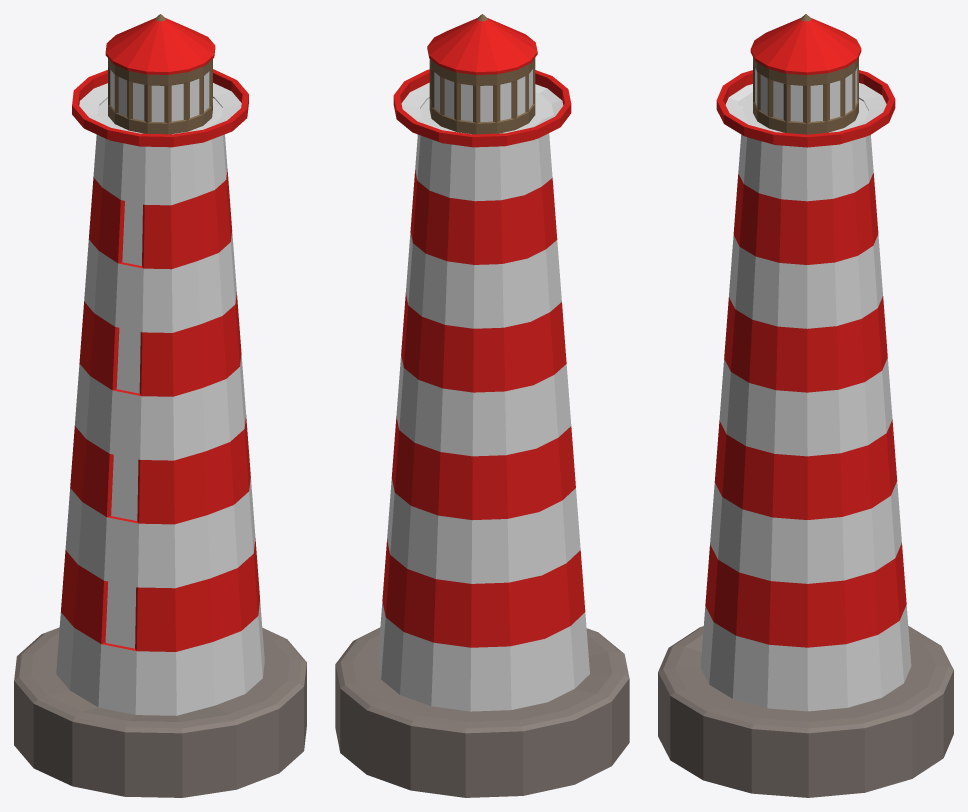
The model's file is lighthouse.fbx.
3 views of the same model, side by side, from view 1: azimuth 30°, elevation 25°; view 2: azimuth 150°, elevation 25°; view 3: azimuth 270°, elevation 25° (orthographic).
Parts seen in each view (by area): view 1: Cylinder; view 2: Cylinder; view 3: Cylinder.
Boxes of the visible parts, left/top/right/bottom form: Cylinder: left=14, top=14, right=306, bottom=797; Cylinder: left=335, top=14, right=629, bottom=797; Cylinder: left=658, top=14, right=953, bottom=797.
Size of the model in its own units: 235 by 632 by 235.
